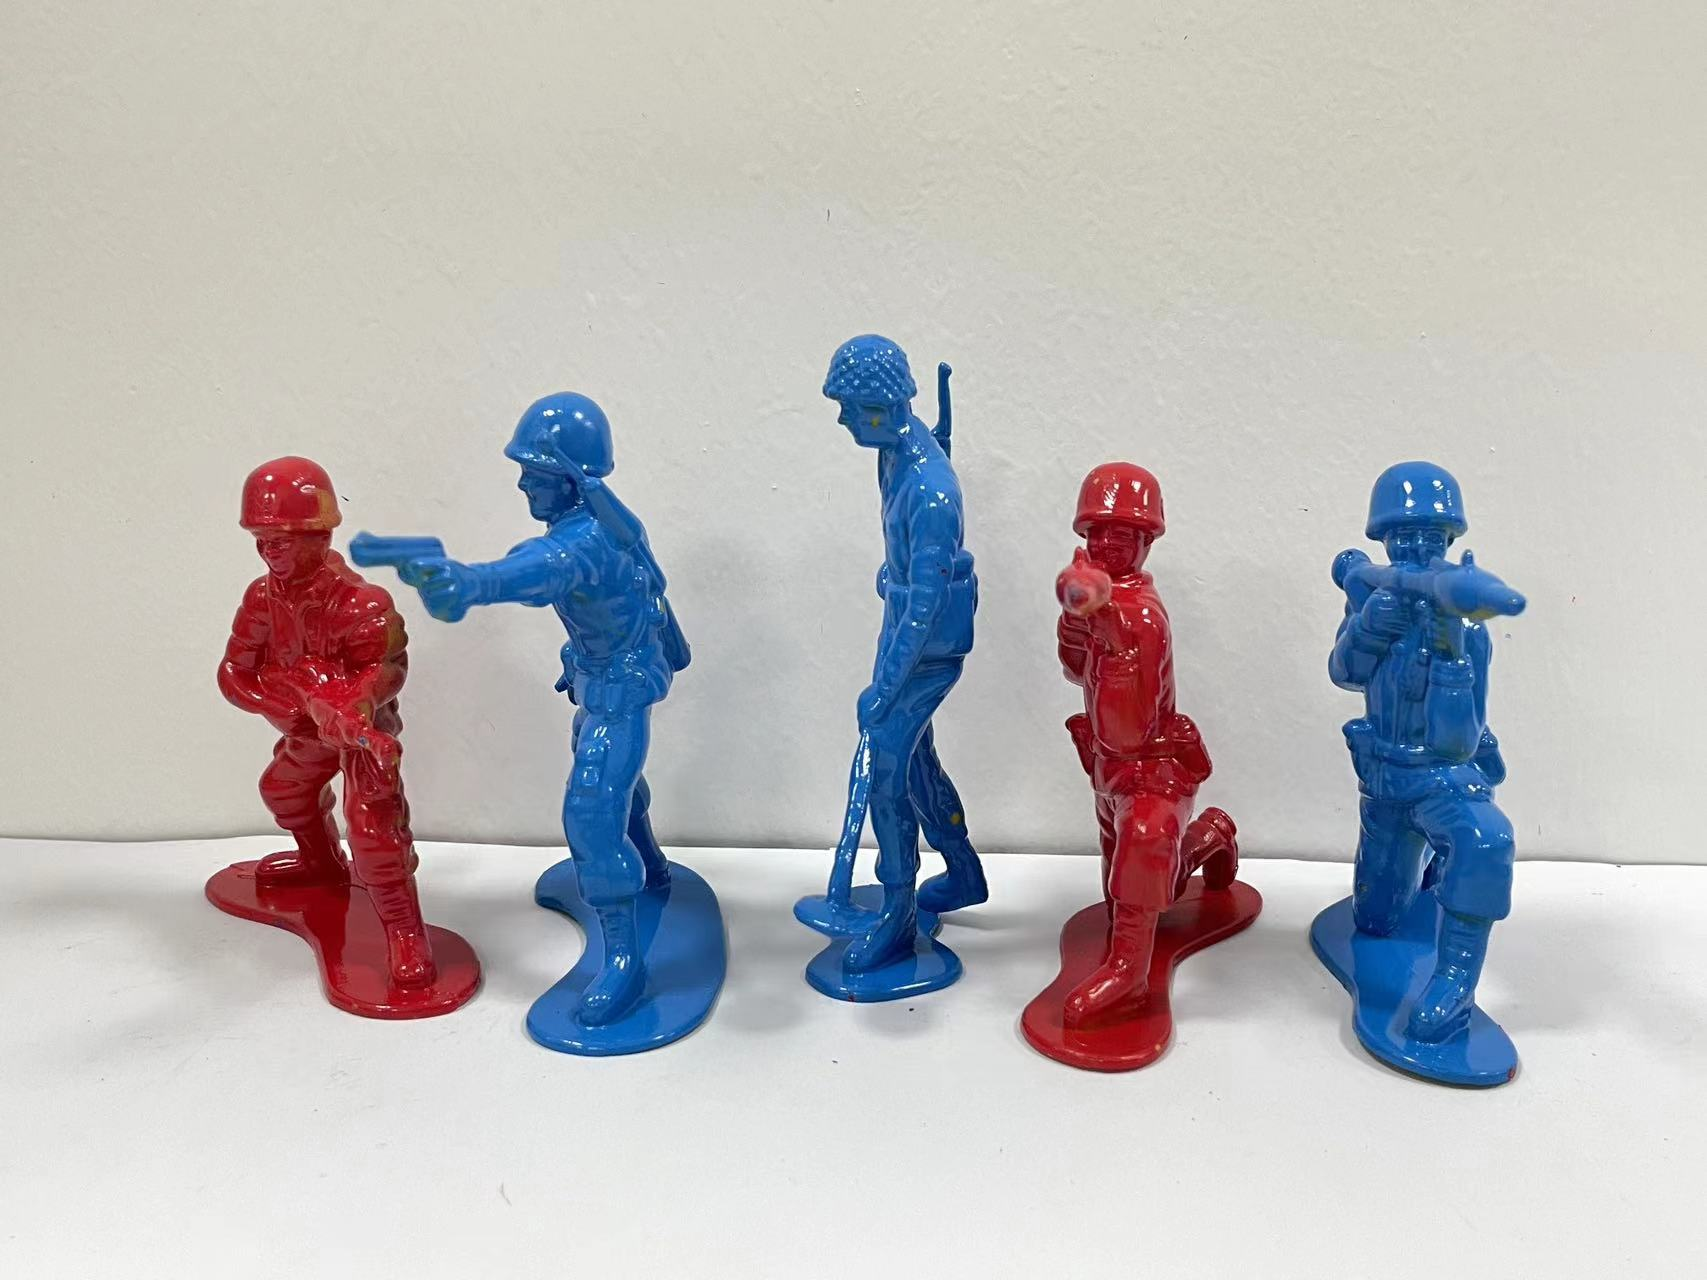blue: (413, 346, 766, 1119), (757, 282, 1020, 1101), (1288, 424, 1573, 1121)
red: (103, 393, 483, 1115), (1020, 450, 1272, 1101)
